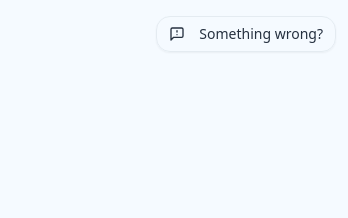
Test: TrialReportControl › says so when the report does not reach us, and never claims it did
Click the button "Something wrong?". click: (246, 34)
box: [156,16,336,52]
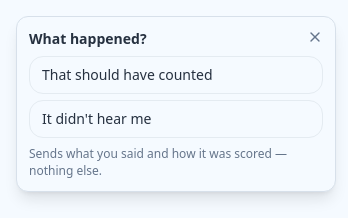
Click the button "That should have counted". click: (176, 75)
box: [29,56,323,94]
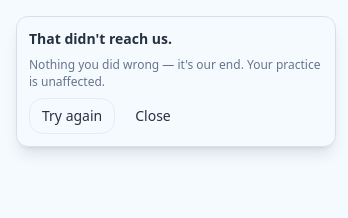
Expected: the text "That didn't reach us." is shown, [29,29,172,48]
